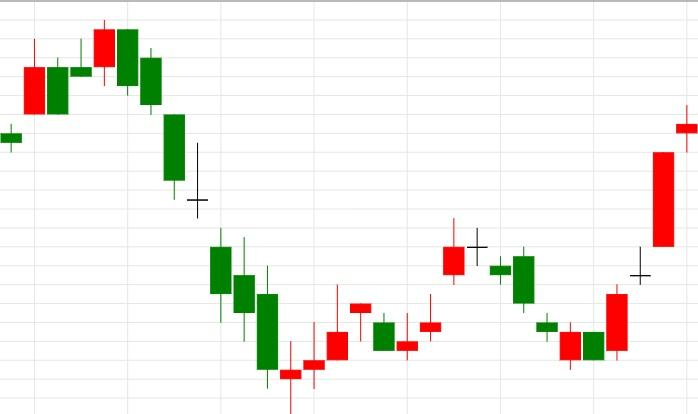three_white_soldiers_rise: (93, 19, 348, 414), (349, 218, 465, 361)
